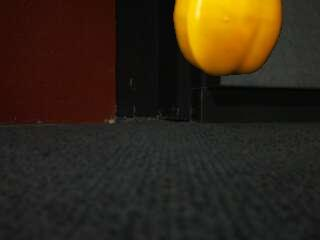Lime: (172, 0, 280, 76)
